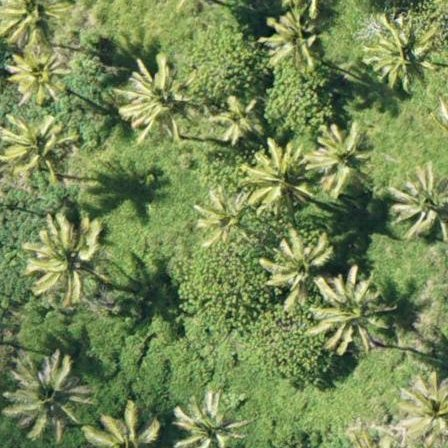palm_tree: (1, 351, 86, 437), (362, 12, 441, 96), (119, 54, 196, 137), (25, 220, 103, 299), (310, 277, 380, 351), (2, 115, 71, 186), (306, 127, 374, 195), (268, 234, 330, 303), (390, 167, 448, 239), (173, 391, 246, 448), (242, 147, 306, 210), (395, 373, 448, 448), (267, 12, 323, 66), (1, 1, 64, 46), (9, 50, 65, 97), (214, 97, 266, 145), (196, 191, 243, 240)
